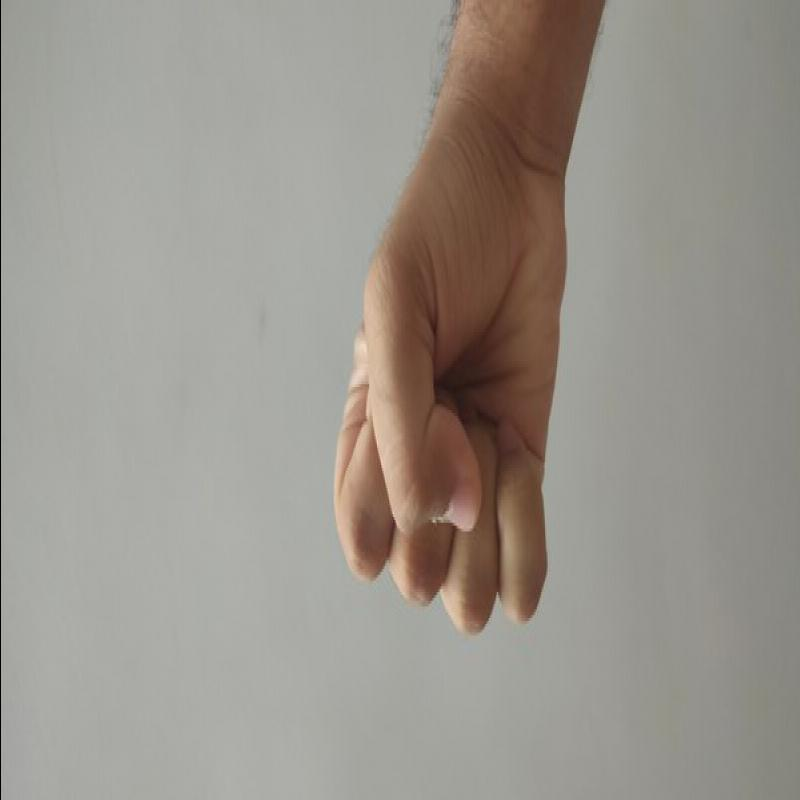Mushti: (300, 104, 594, 656)
